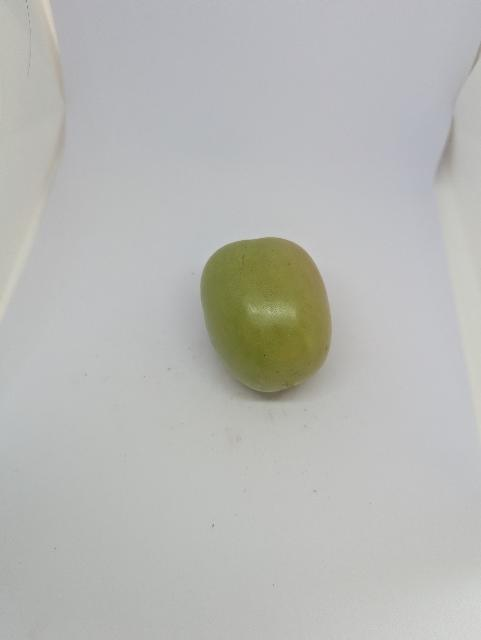green: (185, 229, 349, 420)
